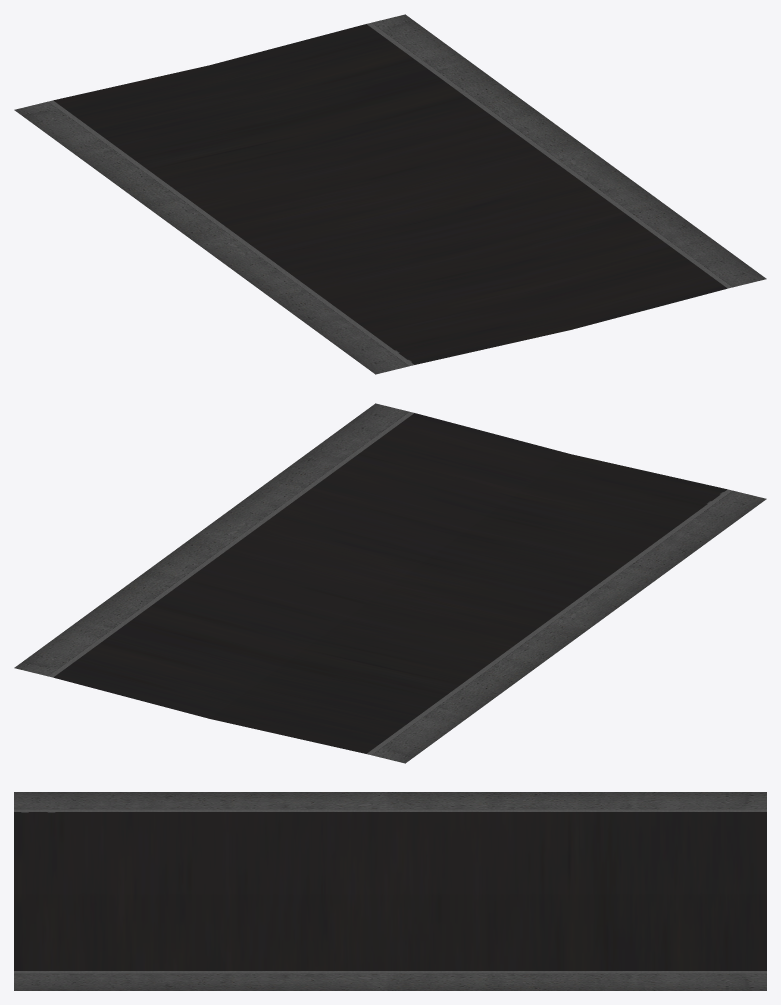
The model's file is RJs_Road 4+4 Slope Node_lod.fbx.
3 renders of one model, top to bottom at view 1: azimuth 30°, elevation 25°; view 2: azimuth 150°, elevation 25°; view 3: azimuth 270°, elevation 25°, orthographic. The views are drawn at different scales.
Parts seen in each view (by area): view 1: plane_lod; view 2: plane_lod; view 3: plane_lod.
Boxes of the visible parts, x1=… form: plane_lod: x1=14, y1=14, x2=766, y2=374; plane_lod: x1=14, y1=403, x2=766, y2=763; plane_lod: x1=14, y1=792, x2=766, y2=990.
Bounding box in the file's own units: 4000 × 30.1 × 6400.
